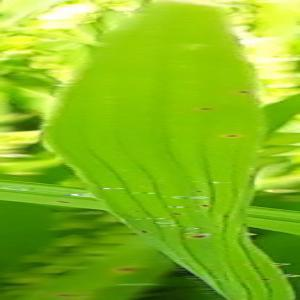0 BrownSpot: (187, 229, 216, 244), (221, 126, 244, 143), (172, 192, 198, 203), (195, 101, 215, 115), (235, 84, 251, 98), (259, 274, 274, 284), (200, 199, 212, 211), (137, 187, 151, 196), (138, 227, 150, 237), (171, 210, 184, 218), (222, 211, 233, 220), (194, 187, 204, 194), (241, 221, 249, 229)
